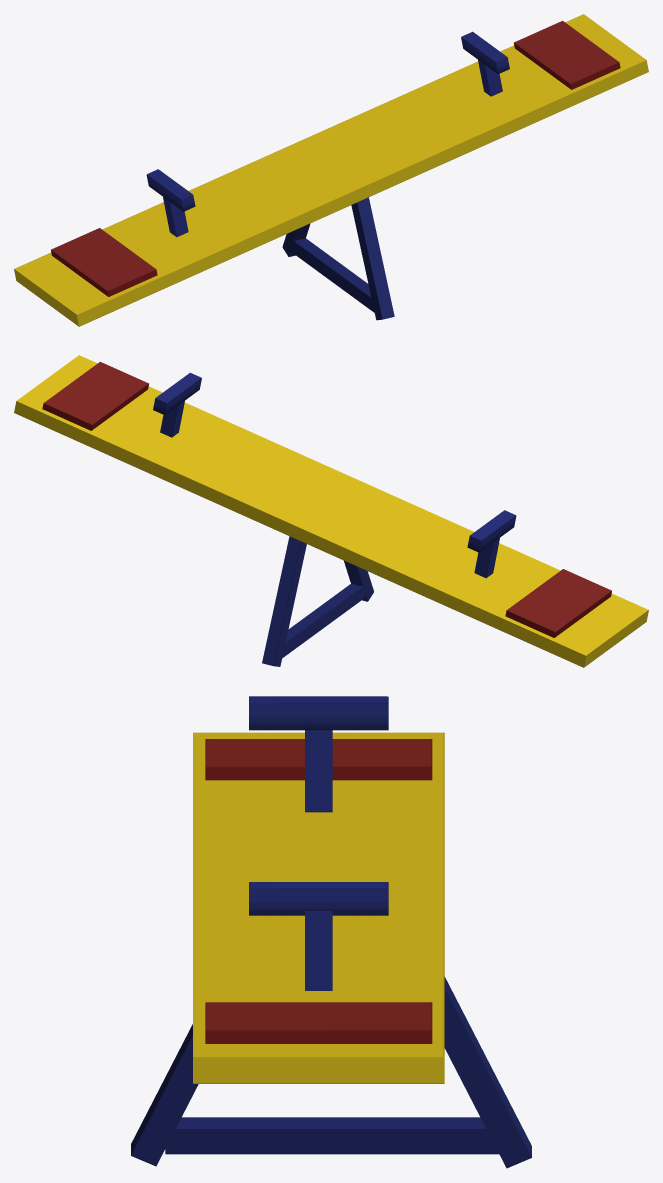
The model's file is teeter_totter.obj.
3 views of the same model, one above another, from view 1: azimuth 30°, elevation 25°; view 2: azimuth 150°, elevation 25°; view 3: azimuth 270°, elevation 25° (orthographic). The views are drawn at different scales.
Parts seen in each view (by area): view 1: Shape7, Shape15, Shape14, Shape1, Shape3, Shape9, Shape11, Shape10, Shape8; view 2: Shape7, Shape15, Shape14, Shape2, Shape3, Shape9, Shape11, Shape10, Shape1, Shape8; view 3: Shape7, Shape3, Shape15, Shape14, Shape2, Shape11, Shape9, Shape1, Shape10, Shape8.
Boxes of the visible parts, left/top/right/bottom form: Shape7: left=14, top=14, right=648, bottom=326; Shape15: left=514, top=20, right=620, bottom=89; Shape14: left=51, top=228, right=157, bottom=296; Shape1: left=351, top=197, right=394, bottom=320; Shape3: left=290, top=238, right=374, bottom=312; Shape9: left=461, top=31, right=509, bottom=74; Shape11: left=146, top=169, right=195, bottom=211; Shape10: left=163, top=197, right=188, bottom=237; Shape8: left=478, top=60, right=502, bottom=96; Shape7: left=14, top=355, right=648, bottom=667; Shape15: left=42, top=361, right=148, bottom=430; Shape14: left=505, top=569, right=611, bottom=637; Shape2: left=262, top=536, right=306, bottom=666; Shape3: left=282, top=583, right=365, bottom=657; Shape9: left=153, top=372, right=201, bottom=415; Shape11: left=467, top=510, right=516, bottom=552; Shape10: left=474, top=538, right=499, bottom=578; Shape1: left=344, top=560, right=373, bottom=601; Shape8: left=160, top=401, right=184, bottom=437; Shape7: left=193, top=732, right=444, bottom=1083; Shape3: left=165, top=1117, right=500, bottom=1154; Shape15: left=205, top=1002, right=432, bottom=1043; Shape14: left=205, top=739, right=432, bottom=780; Shape2: left=444, top=977, right=531, bottom=1168; Shape11: left=249, top=696, right=388, bottom=730; Shape9: left=249, top=882, right=388, bottom=915; Shape1: left=131, top=1024, right=198, bottom=1166; Shape10: left=305, top=730, right=332, bottom=812; Shape8: left=305, top=911, right=332, bottom=990.
Size of the model in its own units: 2.96 by 1.03 by 0.8974.
